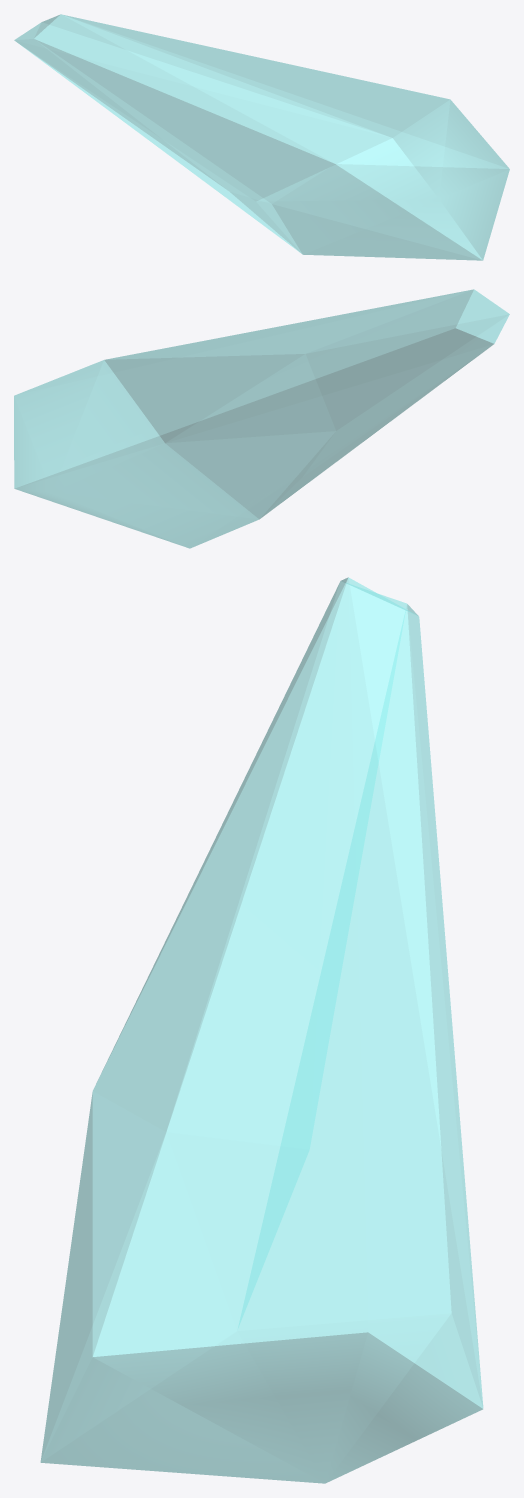
Rendered from Rock_Large_Ice_02.fbx.
The picture shows the model from 3 angles, top to bottom: view 1: azimuth 30°, elevation 25°; view 2: azimuth 150°, elevation 25°; view 3: azimuth 270°, elevation 25°; orthographic projection. The views are drawn at different scales.
Parts seen in each view (by area): view 1: Rock_Large_Ice_02; view 2: Rock_Large_Ice_02; view 3: Rock_Large_Ice_02.
Boxes of the visible parts, bbox=[...] form: Rock_Large_Ice_02: bbox=[14, 14, 509, 260]; Rock_Large_Ice_02: bbox=[14, 289, 509, 548]; Rock_Large_Ice_02: bbox=[40, 577, 483, 1483].
Size of the model in its own units: 3991 by 2451 by 1794.
